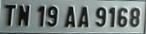1: (36, 3, 45, 27), (109, 5, 116, 30)
6: (118, 5, 129, 29)
8: (130, 5, 142, 27)
9: (47, 2, 59, 28), (95, 4, 107, 30)
A: (77, 5, 91, 31), (63, 2, 76, 30)
N: (17, 4, 30, 28)
T: (4, 4, 17, 27)
